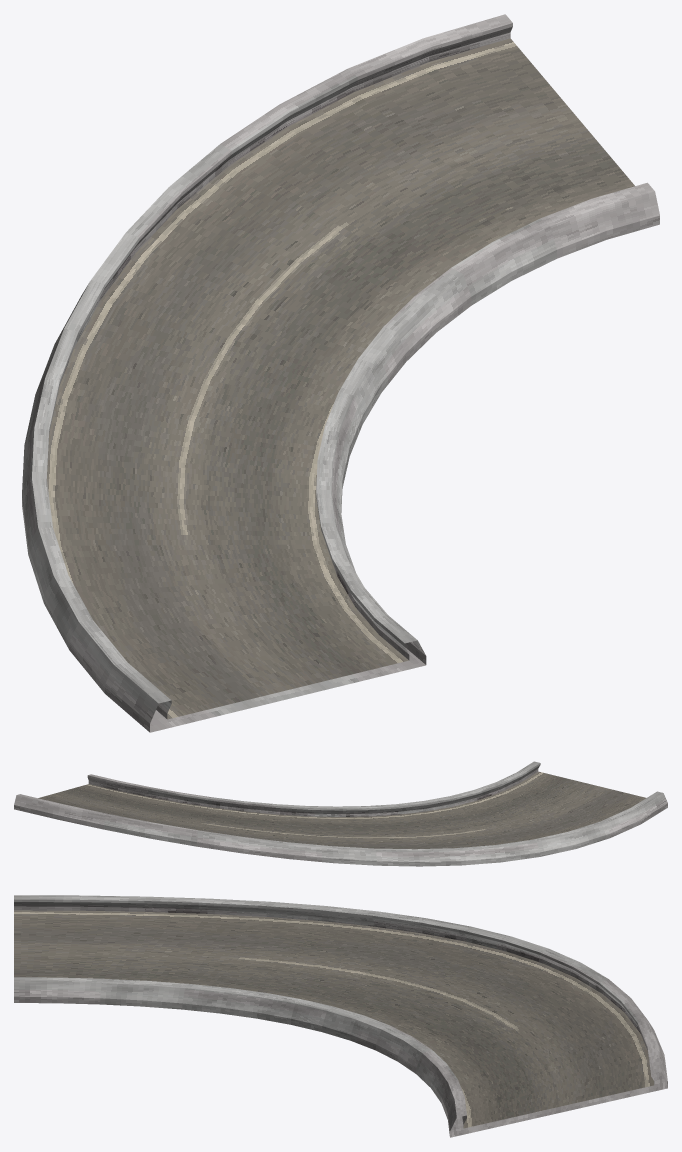
The model's file is turn-right3x3.glb.
3 views of the same model, one above another, from view 1: azimuth 30°, elevation 25°; view 2: azimuth 150°, elevation 25°; view 3: azimuth 270°, elevation 25° (orthographic). The views are drawn at different scales.
Parts seen in each view (by area): view 1: road-Turn-Flat-HalfBankedRight-Up1-Right-Size3; view 2: road-Turn-Flat-HalfBankedRight-Up1-Right-Size3; view 3: road-Turn-Flat-HalfBankedRight-Up1-Right-Size3.
Boxes of the visible parts, x1,y1,x2,y2 form: road-Turn-Flat-HalfBankedRight-Up1-Right-Size3: [22, 14, 659, 732]; road-Turn-Flat-HalfBankedRight-Up1-Right-Size3: [14, 761, 667, 866]; road-Turn-Flat-HalfBankedRight-Up1-Right-Size3: [14, 895, 667, 1137].
Size of the model in its own units: 3 by 0.5859 by 3.
Materials: 2 (2 with a texture image).
